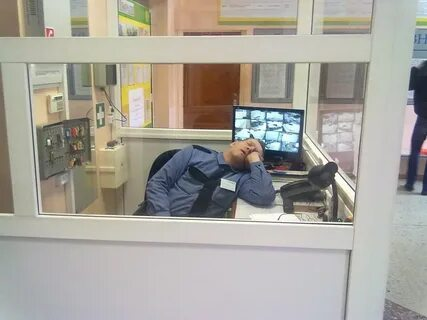sleep: (132, 137, 277, 216)
